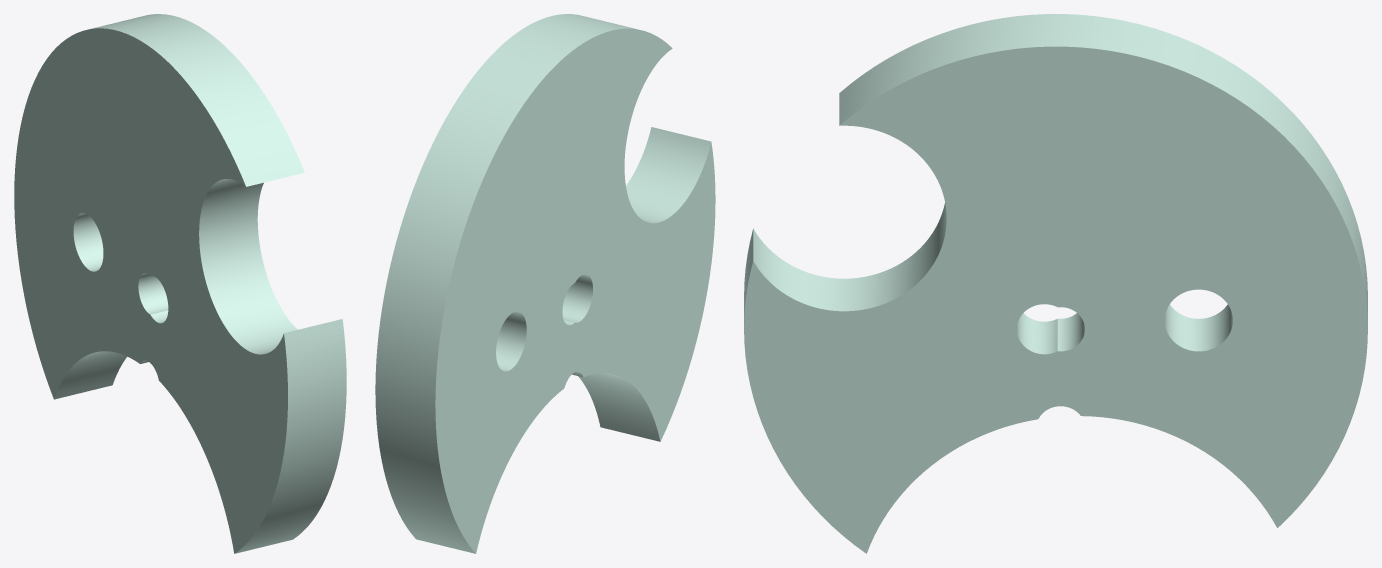
3 renders of one model, left to right at view 1: azimuth 30°, elevation 25°; view 2: azimuth 150°, elevation 25°; view 3: azimuth 270°, elevation 25°, orthographic. The views are drawn at different scales.
Visible parts, largest first — view 1: Renderer Node; view 2: Renderer Node; view 3: Renderer Node.
Part boxes in pixels (x1,y1,x2,y2): Renderer Node: [14, 14, 346, 553]; Renderer Node: [375, 14, 715, 553]; Renderer Node: [744, 14, 1367, 553].
Size of the model in its own units: 0.1875 by 1.36 by 1.52.
